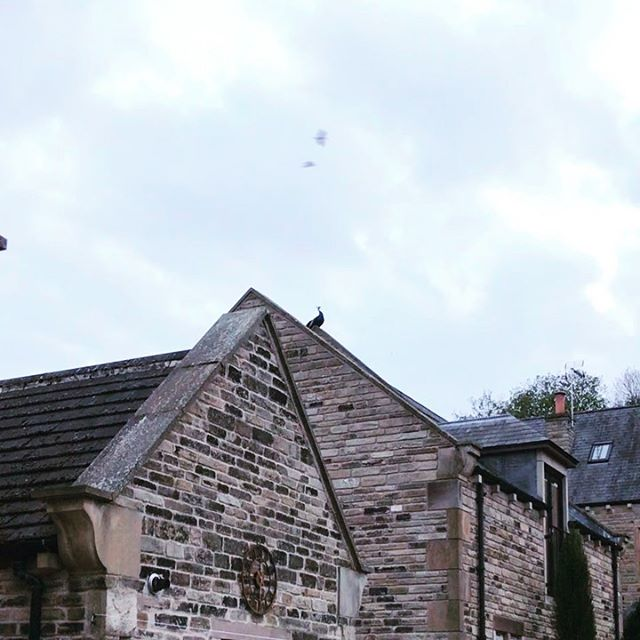animal: (301, 302, 333, 336)
building: (18, 343, 640, 640)
sky: (1, 1, 614, 360)
